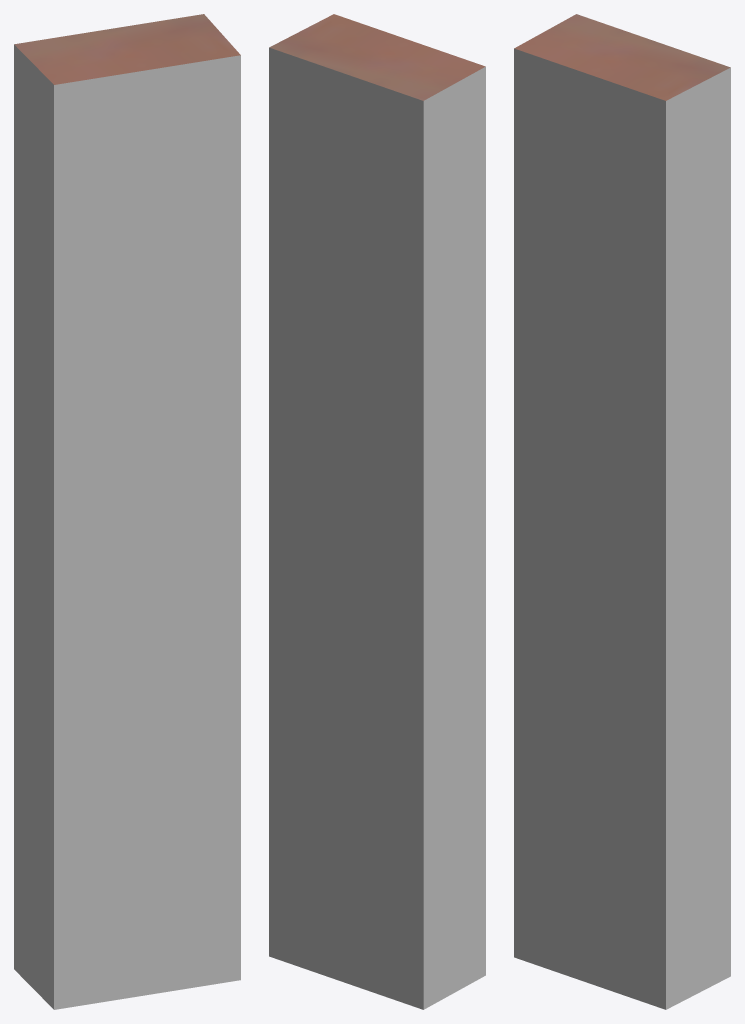
File: DEBW_0010007THXv.gltf
3 views of the same model, side by side, from view 1: azimuth 30°, elevation 25°; view 2: azimuth 150°, elevation 25°; view 3: azimuth 330°, elevation 25° (orthographic).
Visible parts, largest first — view 1: Z_UP; view 2: Z_UP; view 3: Z_UP.
Part boxes in pixels (x1,y1,x2,y2): Z_UP: (14,14,240,1009); Z_UP: (269,14,485,1009); Z_UP: (514,14,730,1009).
Bounding box in the file's own units: 3.18 × 15.17 × 2.02.
Materials: 2 (1 with a texture image).
